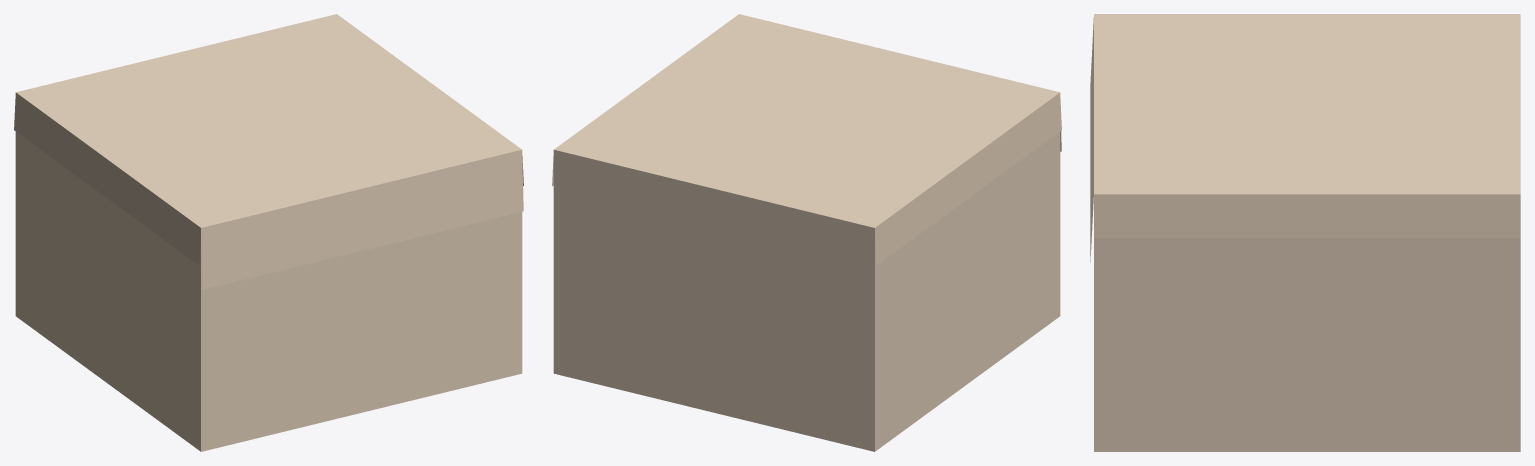
Rendered from CakeBox.glb.
3 views of the same model, side by side, from view 1: azimuth 30°, elevation 25°; view 2: azimuth 150°, elevation 25°; view 3: azimuth 270°, elevation 25° (orthographic). The views are drawn at different scales.
Parts seen in each view (by area): view 1: CakeBoxTray, CakeBoxLid; view 2: CakeBoxTray, CakeBoxLid; view 3: CakeBoxLid, CakeBoxTray.
Part boxes in pixels (x1,y1,x2,y2): CakeBoxTray: [15, 131, 522, 451]; CakeBoxLid: [14, 14, 523, 289]; CakeBoxTray: [553, 131, 1060, 451]; CakeBoxLid: [552, 14, 1061, 265]; CakeBoxLid: [1090, 14, 1520, 262]; CakeBoxTray: [1094, 238, 1520, 451].
Size of the model in its own units: 3.64 by 2.4 by 3.63.
